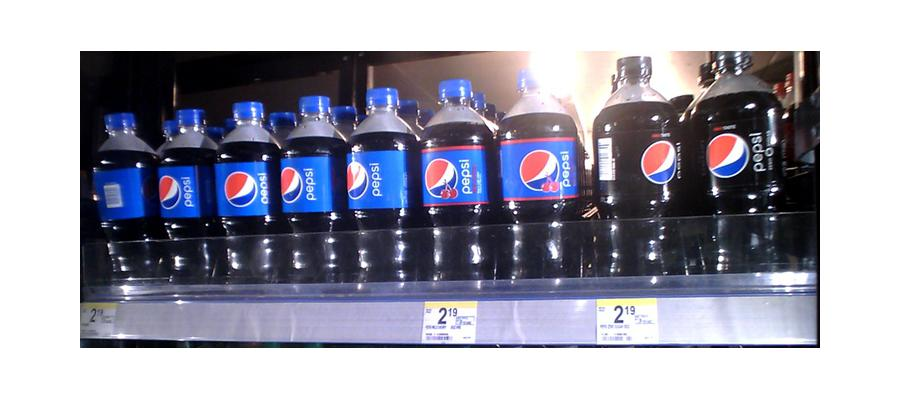bottle: (693, 51, 783, 274), (595, 58, 685, 279), (495, 71, 588, 283), (418, 82, 491, 285), (344, 88, 414, 286), (274, 95, 342, 280), (92, 113, 158, 287), (212, 98, 274, 283), (152, 106, 212, 280)
